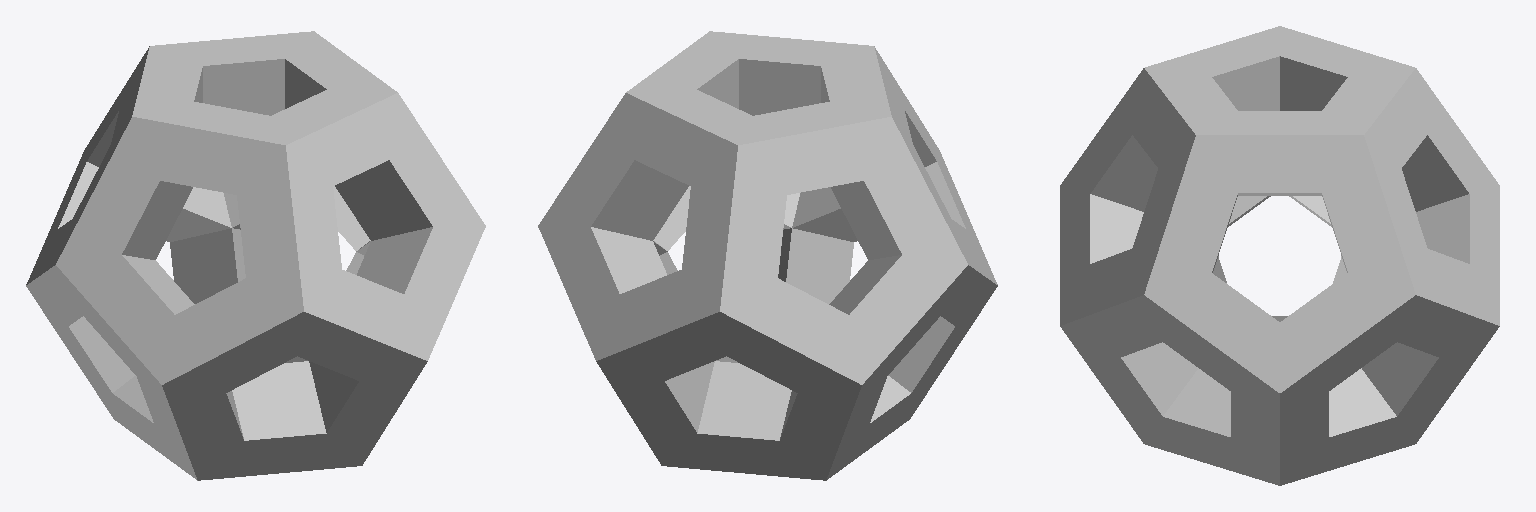
File: hollow_dodecahedron.obj
The picture shows the model from 3 angles: view 1: azimuth 30°, elevation 25°; view 2: azimuth 150°, elevation 25°; view 3: azimuth 270°, elevation 25°; orthographic projection.
Parts seen in each view (by area): view 1: Vertex_Object_2; view 2: Vertex_Object_2; view 3: Vertex_Object_2.
Boxes of the visible parts, <box> form: Vertex_Object_2: <box>26,31,485,480</box>; Vertex_Object_2: <box>538,31,997,480</box>; Vertex_Object_2: <box>1060,26,1499,485</box>.
Bounding box in the file's own units: 9.82 × 7.95 × 9.34.